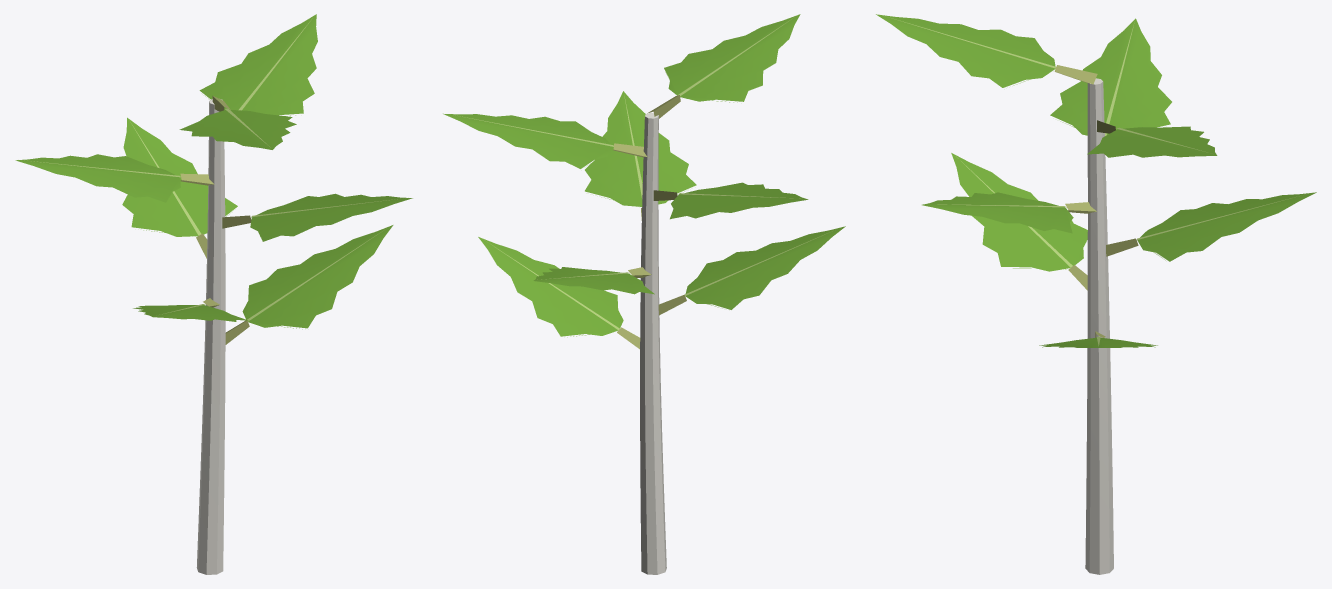
3 views of the same model, side by side, from view 1: azimuth 30°, elevation 25°; view 2: azimuth 150°, elevation 25°; view 3: azimuth 270°, elevation 25° (orthographic). The views are drawn at different scales.
Visible parts, largest first — view 1: body; view 2: body; view 3: body.
Part boxes in pixels (x1=…): body: x1=15, y1=14, x2=412, y2=574; body: x1=443, y1=14, x2=845, y2=574; body: x1=876, y1=14, x2=1316, y2=574.
Bounding box in the file's own units: 0.4092 × 0.55 × 0.4146.
Materials: 1 (1 with a texture image).
